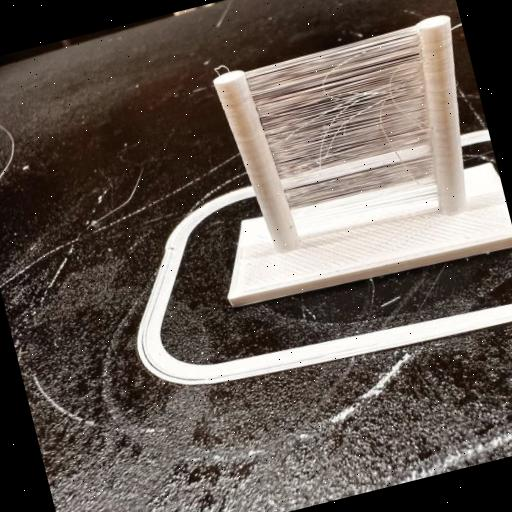stringing: (236, 30, 448, 216)
